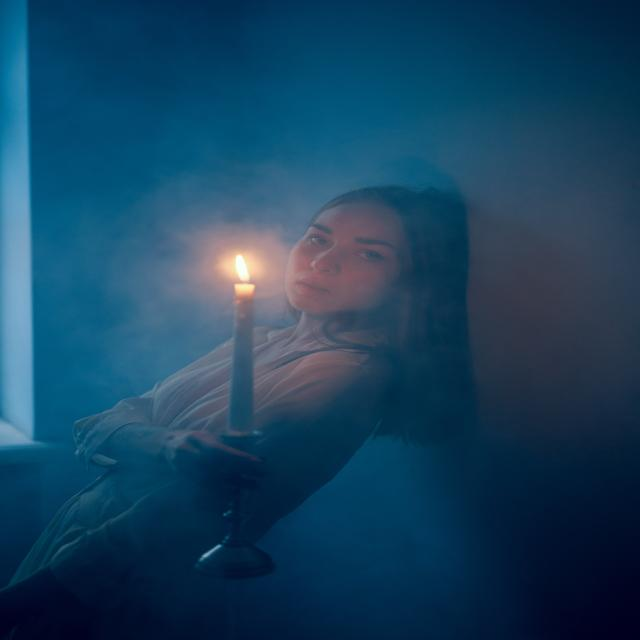fire: (225, 243, 261, 288)
